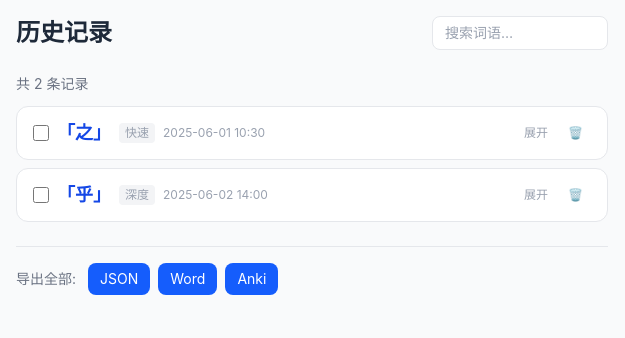
HistoryView › shows export error
Step 1. Click the button "JSON" → click(119, 279), box [88, 263, 150, 295]
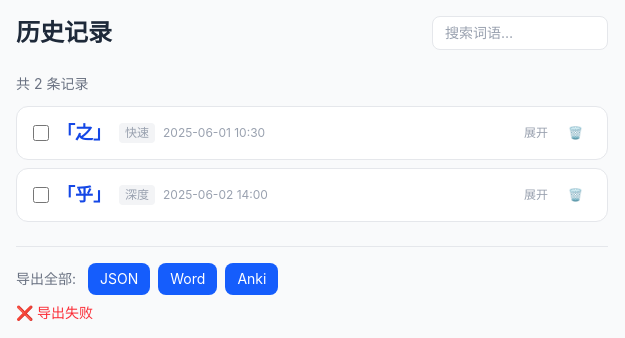
Check: the text "导出失败" is shown, box [16, 304, 93, 321]
